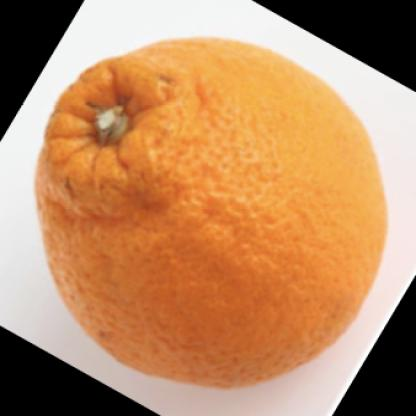fresh: (36, 39, 389, 390)
